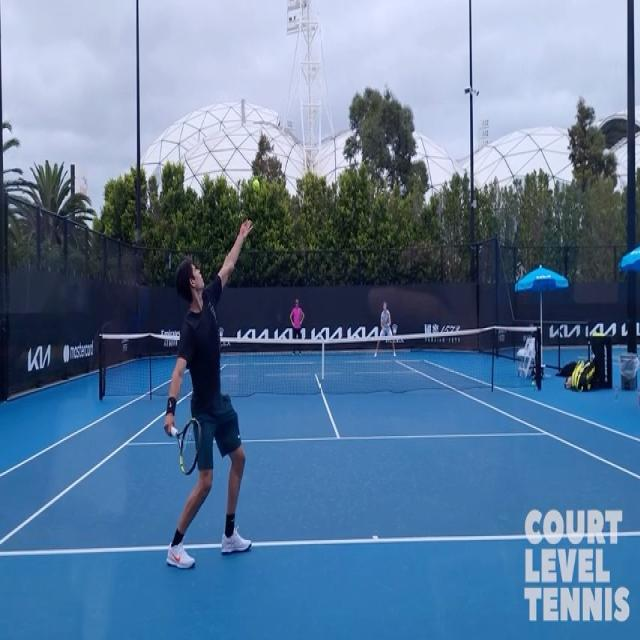serve_toss: (157, 217, 263, 567)
